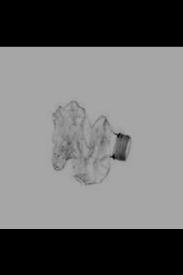bottle: (40, 94, 142, 188)
